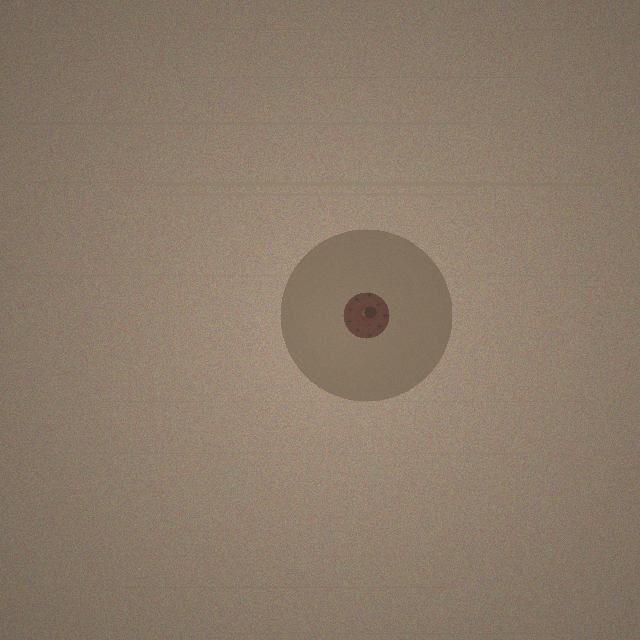cold_weld: (280, 229, 452, 401)
